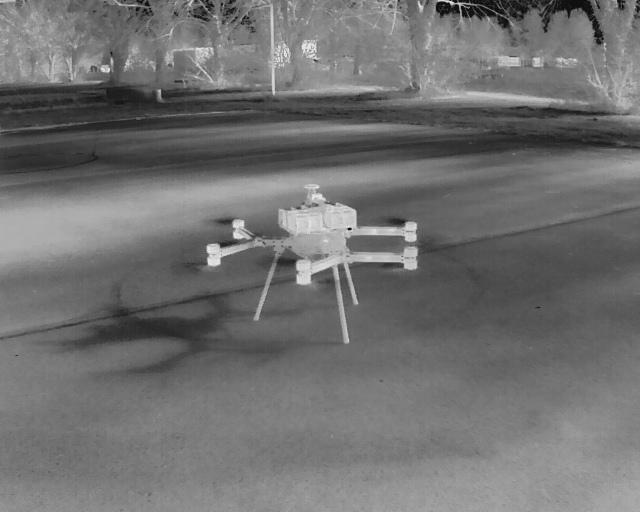drone: (167, 173, 449, 348)
